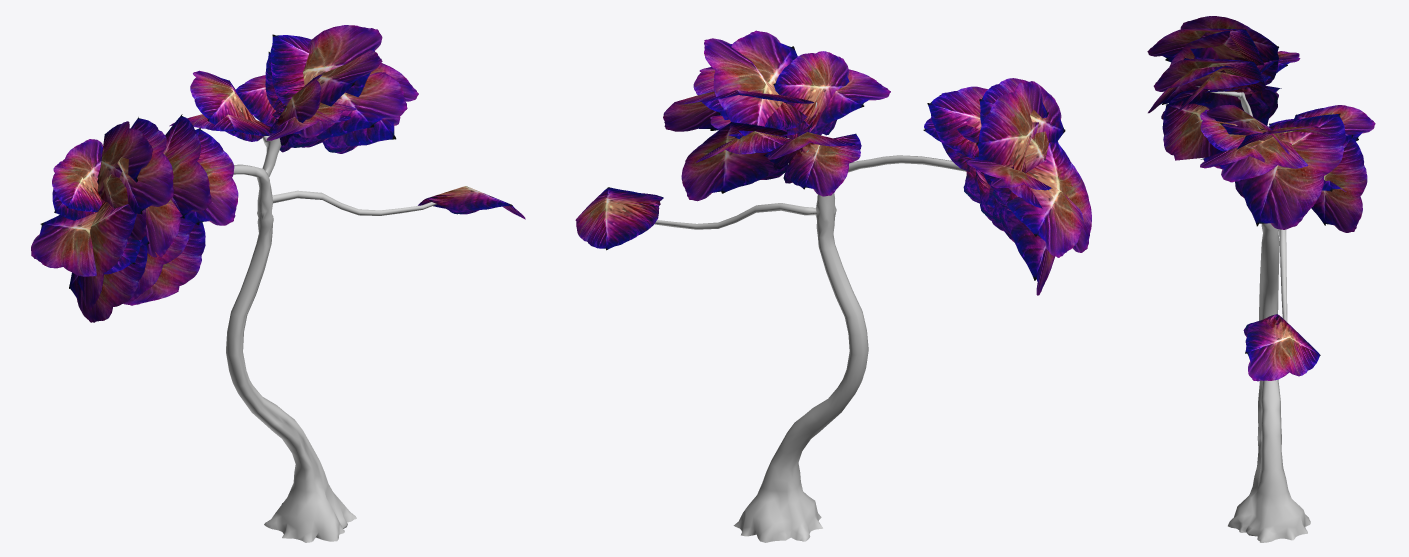
The model's file is Tree_magenta.fbx.
3 renders of one model, left to right at view 1: azimuth 30°, elevation 25°; view 2: azimuth 150°, elevation 25°; view 3: azimuth 270°, elevation 25°, orthographic. The views are drawn at different scales.
Visible parts, largest first — view 1: U3DMesh; view 2: U3DMesh; view 3: U3DMesh.
Part boxes in pixels (x1,y1,x2,y2): U3DMesh: (31, 25, 525, 542); U3DMesh: (575, 30, 1091, 542); U3DMesh: (1147, 16, 1375, 542).
Bounding box in the file's own units: 54.8 × 49.93 × 28.14.
